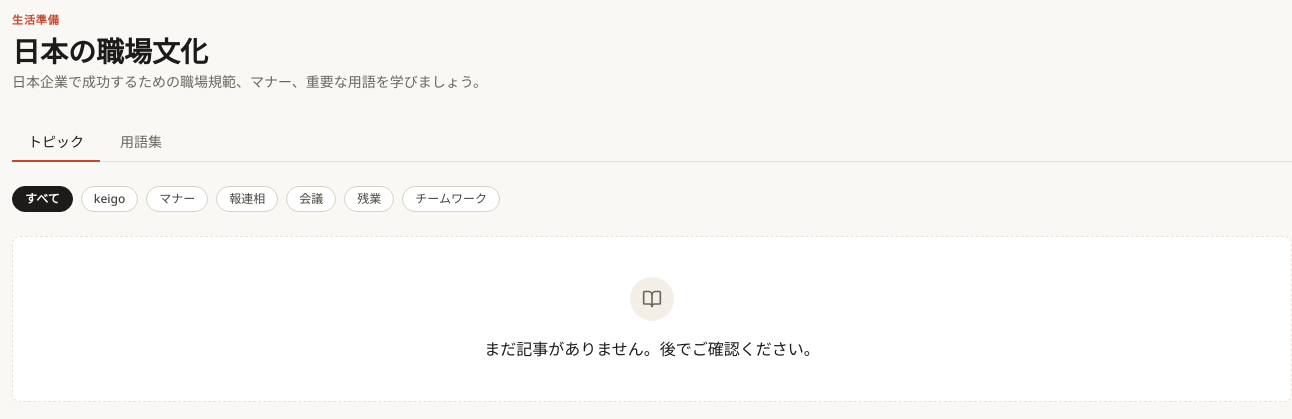
Scenario: culture page › reports a glossary failure through the same component
Press the mouse on the tab "用語集" at (141, 142), box [104, 124, 178, 162]
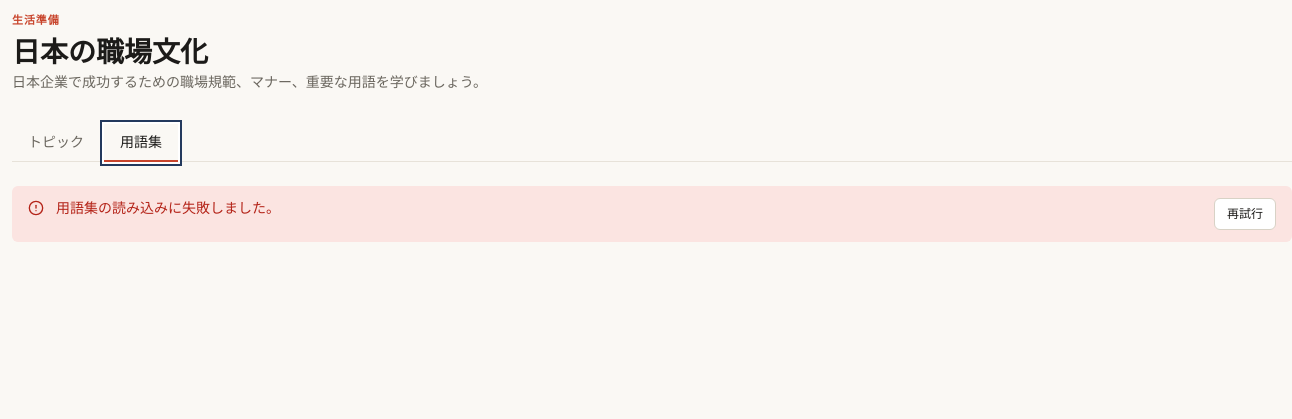
Result: the message reads "用語集の読み込みに失敗しました。" at [56, 198, 280, 216]
